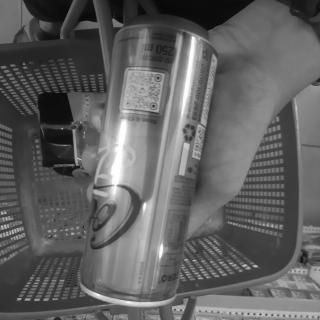alumunium_can: (72, 8, 218, 316)
